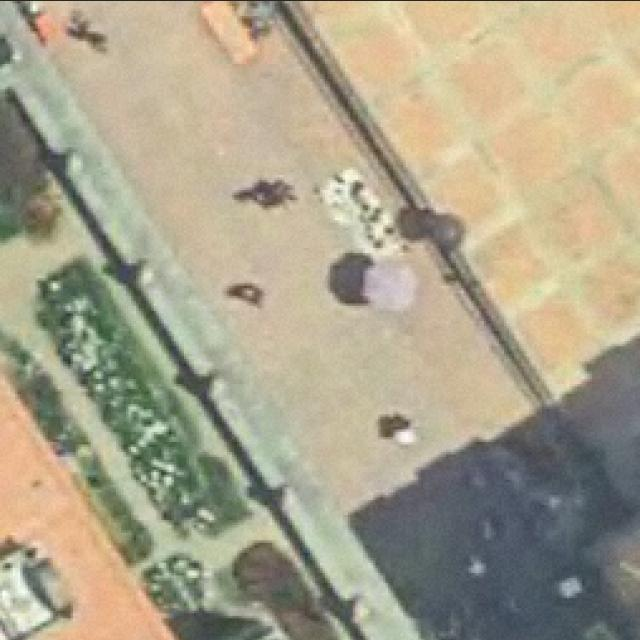vendedor_ambulante: (356, 251, 421, 318)
